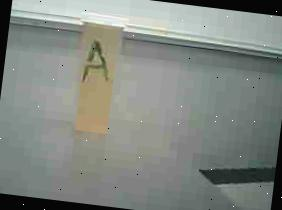Bottle A: (60, 2, 134, 152)
